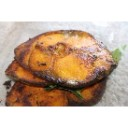seerfish: (13, 30, 118, 86), (5, 57, 79, 88), (4, 79, 69, 106)
